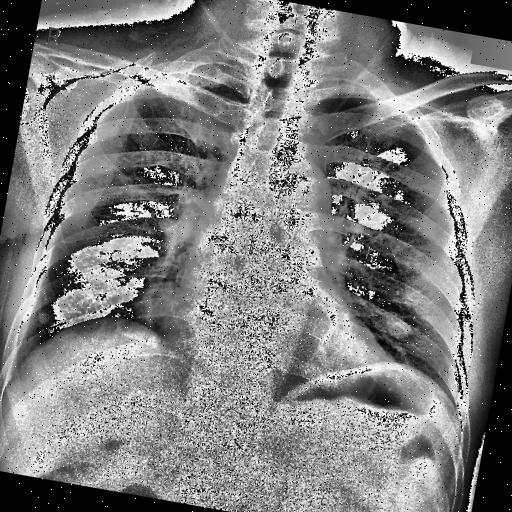0- Aortic enlargement: (264, 152, 340, 228), (259, 152, 339, 222)
11- Pleural thickening: (123, 49, 240, 116), (140, 50, 246, 104), (134, 56, 225, 99), (304, 74, 374, 114)
3- Cardiomegaly: (157, 286, 377, 396), (158, 291, 400, 389)
7- Lung Opacity: (131, 277, 175, 332), (368, 306, 416, 340)
8- Nodule-Mass: (370, 307, 414, 340), (372, 310, 414, 340), (33, 304, 56, 326), (34, 308, 56, 328), (36, 307, 56, 326), (379, 182, 394, 195)
9- Other lesion: (273, 338, 458, 412)
